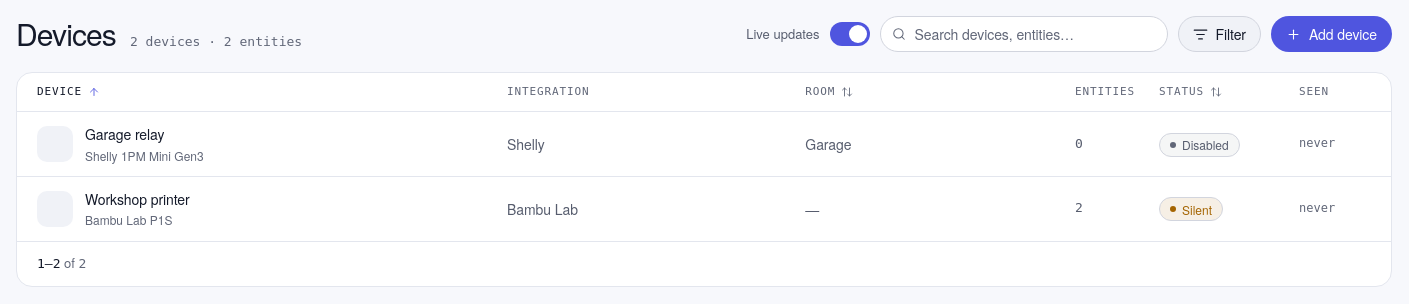
Test: DevicesPage › narrows the list by what is typed, through the entities and their tags too
Type "chamber" into the search field labelled "Search" at (1024, 34), box left=880, top=16, right=1168, bottom=52
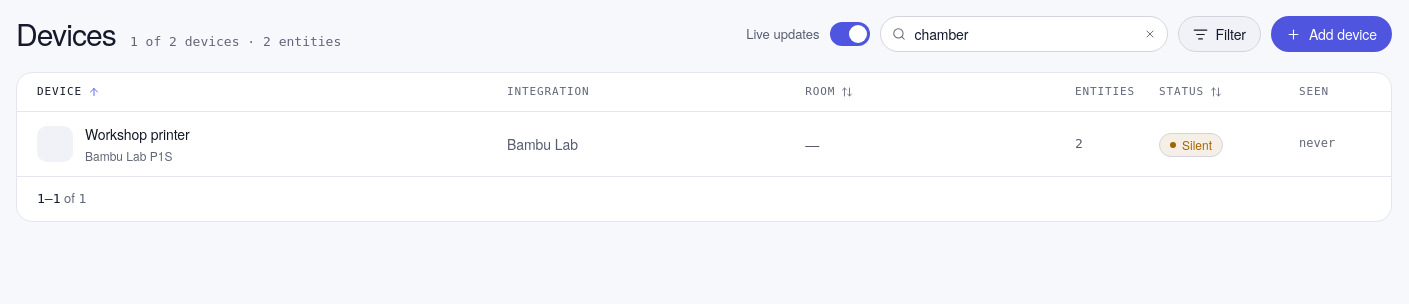
Expected: the link "Workshop printer" is shown, left=85, top=124, right=190, bottom=145
Expected: the link "Garage relay" is gone
Replace the text in the search field named "Search" with "exterior" at (1024, 34), box left=880, top=16, right=1168, bottom=52
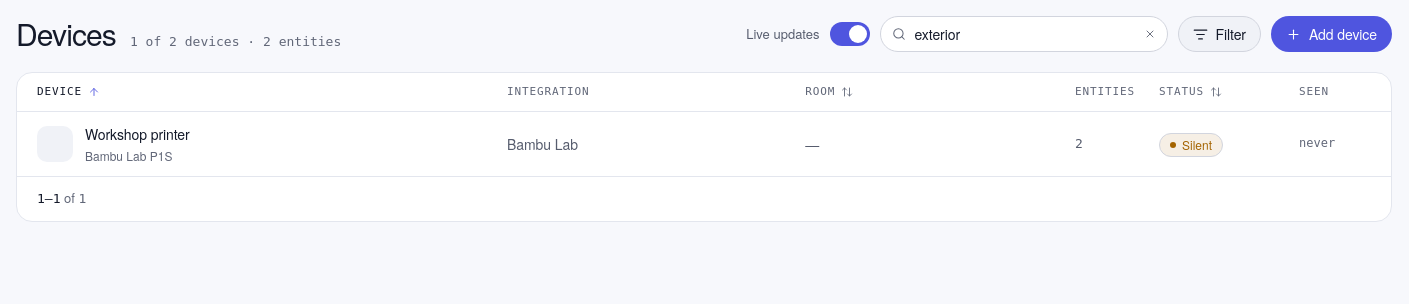
Expected: the link "Workshop printer" is shown, left=85, top=124, right=190, bottom=145
Replace the text in the search field named "Search" with "nothing here" at (1024, 34), box left=880, top=16, right=1168, bottom=52
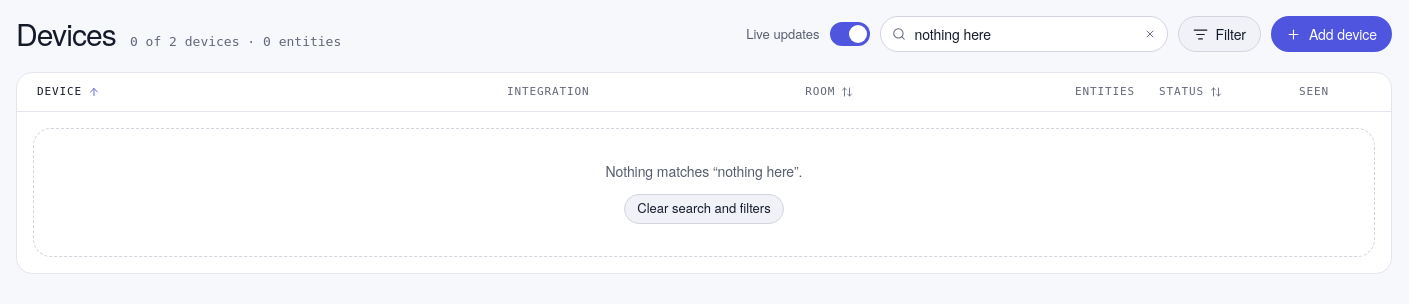
Expected: the link "Workshop printer" is gone
Expected: the text "Nothing matches “nothing here”." is shown, left=606, top=161, right=802, bottom=182
